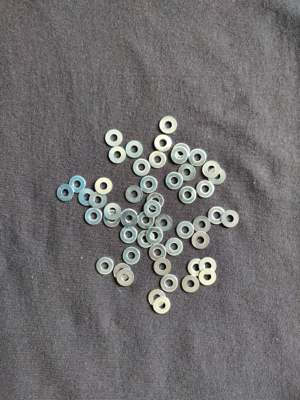circle: (177, 161, 201, 183), (199, 158, 223, 180), (118, 208, 142, 230), (92, 175, 116, 197), (178, 274, 202, 296), (158, 114, 181, 136), (102, 127, 125, 149), (106, 143, 129, 165), (122, 139, 145, 161), (152, 133, 175, 155), (168, 145, 191, 167), (186, 146, 209, 168), (131, 157, 154, 179), (205, 165, 228, 187), (164, 170, 187, 192), (138, 175, 161, 197), (195, 178, 218, 200), (179, 183, 202, 205), (144, 191, 167, 213), (124, 183, 147, 205), (136, 208, 159, 230), (152, 212, 175, 234), (175, 218, 198, 240), (189, 229, 212, 251), (190, 214, 213, 236), (205, 205, 228, 227), (218, 208, 241, 230), (117, 207, 140, 229), (101, 200, 124, 222), (102, 207, 125, 229), (83, 207, 106, 229), (87, 190, 110, 212), (76, 186, 99, 208), (66, 174, 89, 196), (55, 182, 78, 204), (120, 245, 143, 267), (119, 225, 142, 247), (134, 230, 157, 252), (145, 225, 168, 247), (146, 241, 169, 263), (162, 237, 185, 259), (151, 256, 174, 278), (111, 261, 134, 283), (115, 267, 138, 289), (94, 255, 117, 277), (158, 272, 181, 294), (147, 286, 170, 308), (151, 296, 174, 318), (185, 256, 208, 278), (197, 256, 220, 278), (196, 266, 219, 288), (168, 141, 191, 162), (142, 199, 165, 220)
